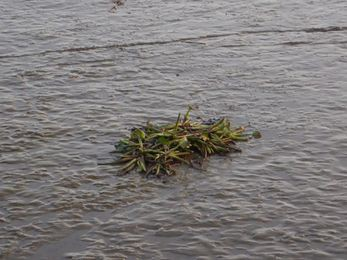water_hyacinth: (109, 103, 262, 180)
